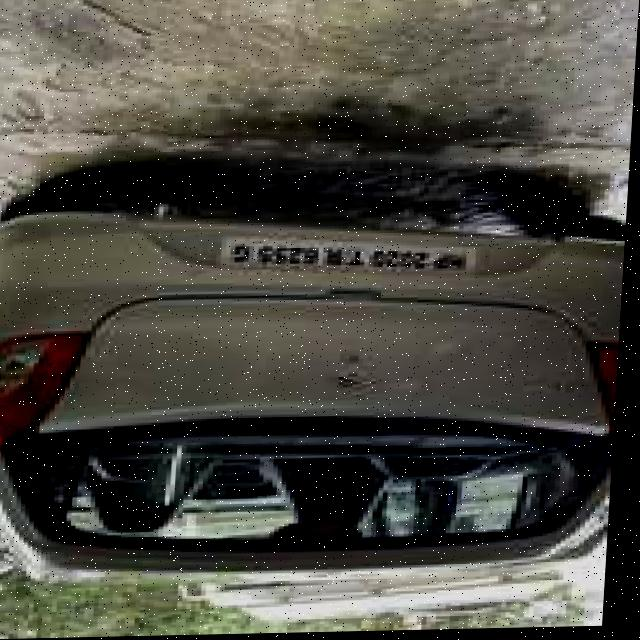plate: (222, 238, 487, 280)
